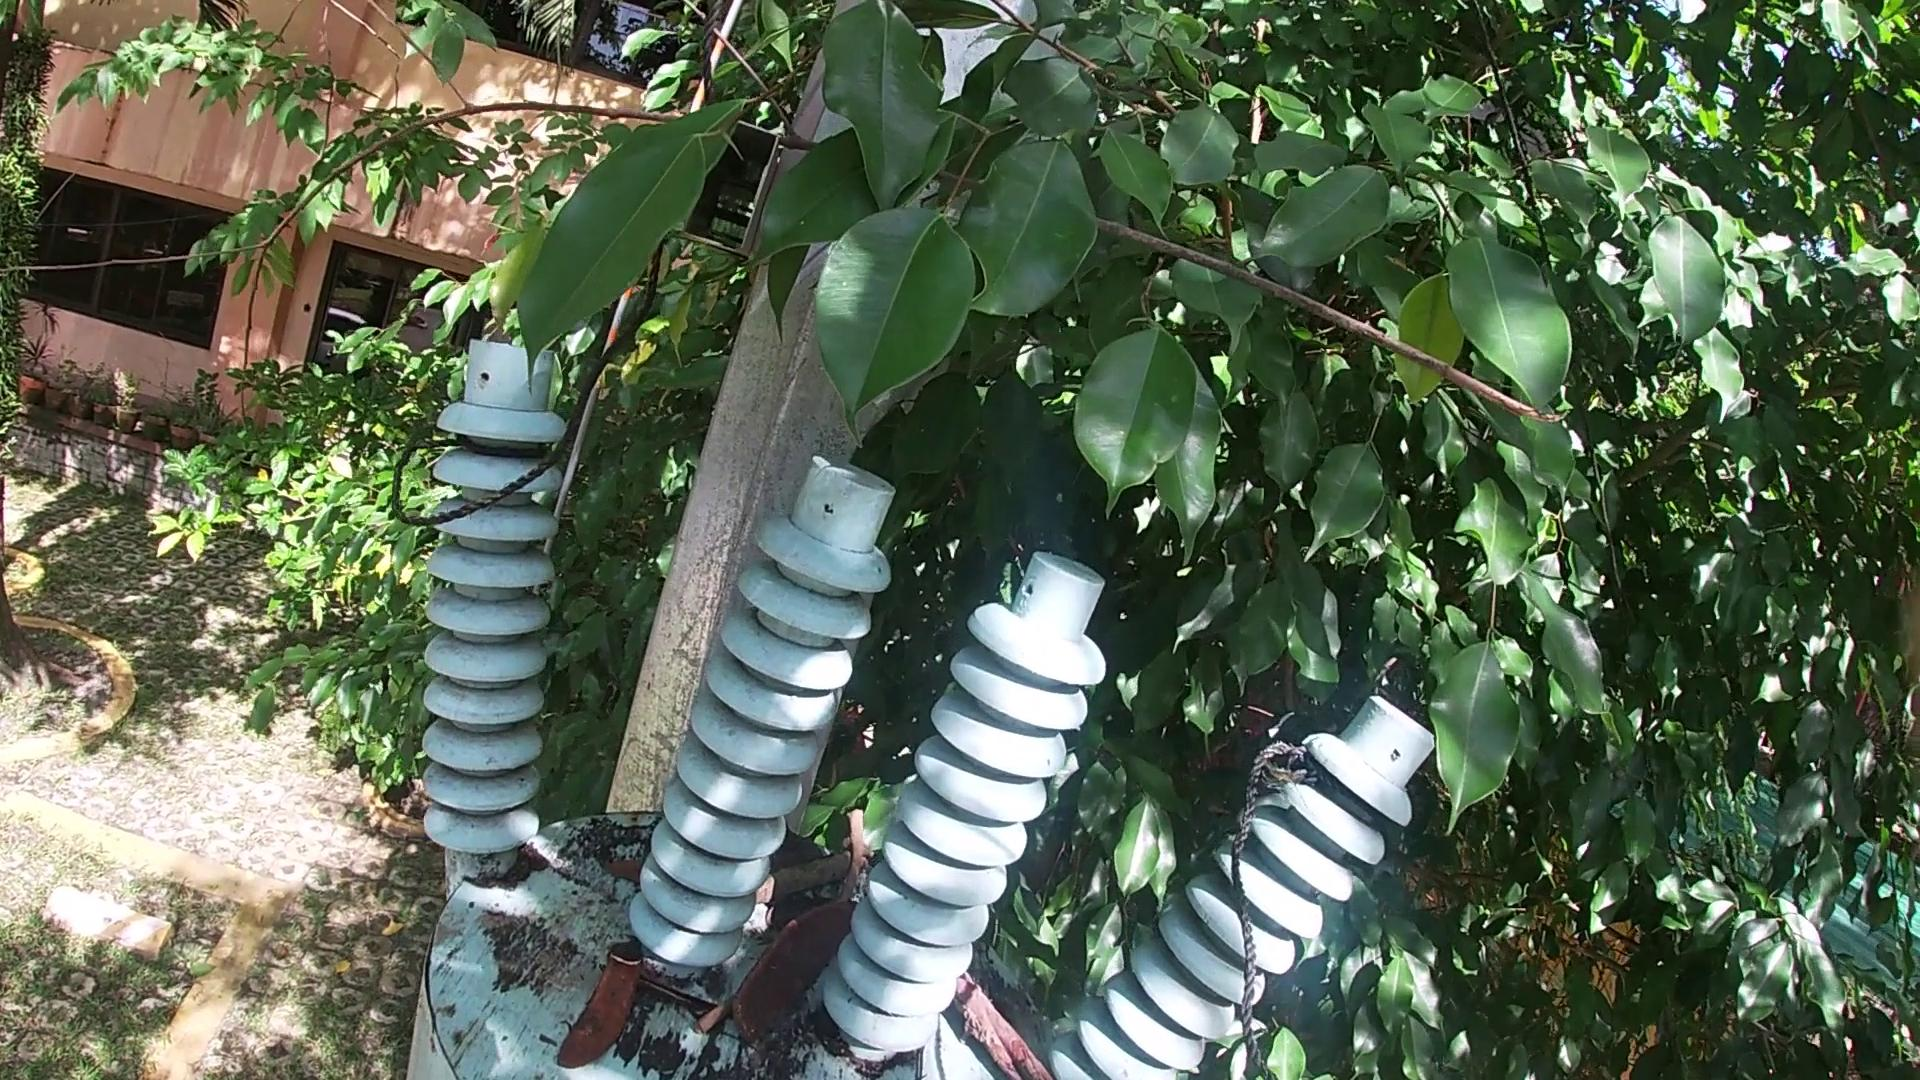leaf: (637, 972, 692, 1004), (601, 865, 647, 884)
mahogany fruit: (723, 897, 856, 1048), (549, 951, 637, 1075)
tree branch: (30, 1, 1597, 442), (957, 975, 1063, 1077), (750, 852, 847, 916), (847, 800, 874, 907), (698, 1011, 720, 1044)
